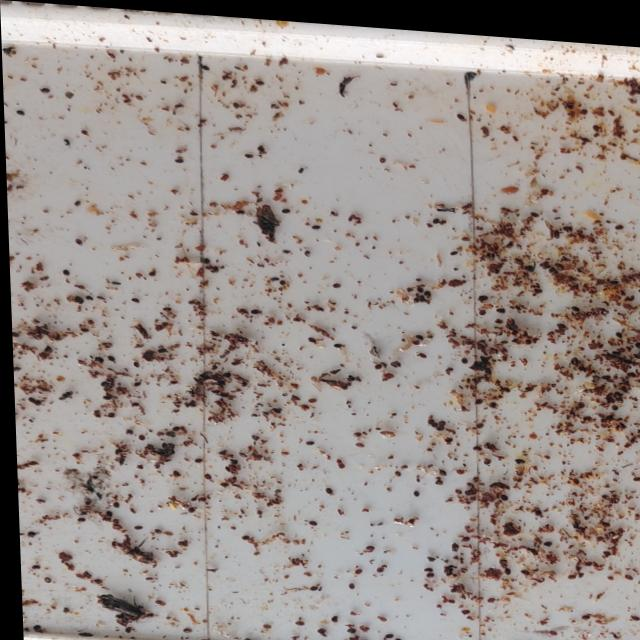varroa: (539, 532, 553, 542), (413, 346, 428, 354), (148, 597, 163, 605), (25, 565, 40, 573), (168, 467, 181, 476), (23, 531, 36, 540), (457, 529, 470, 538), (234, 448, 248, 456), (423, 566, 437, 574), (619, 565, 633, 573), (309, 219, 321, 228), (350, 562, 362, 571), (300, 436, 315, 443), (361, 540, 376, 547), (248, 431, 261, 439), (39, 577, 52, 585), (71, 515, 84, 523), (481, 450, 491, 460), (500, 561, 510, 571), (71, 200, 82, 209), (411, 329, 422, 338), (574, 392, 585, 401), (15, 110, 27, 118), (97, 380, 109, 388), (568, 297, 580, 305), (491, 310, 503, 318), (389, 355, 401, 363), (215, 478, 227, 486), (469, 438, 481, 446), (598, 542, 610, 550), (373, 562, 385, 570), (57, 607, 69, 615), (563, 566, 575, 574), (162, 430, 175, 437), (516, 561, 529, 568), (418, 562, 431, 569), (130, 523, 143, 530), (454, 602, 467, 609), (457, 108, 467, 117), (568, 350, 578, 359), (497, 486, 507, 495), (344, 578, 354, 587), (91, 356, 102, 364), (613, 323, 624, 331), (200, 471, 211, 479), (349, 427, 360, 435), (146, 269, 157, 277), (199, 62, 211, 69), (279, 206, 291, 213), (236, 207, 248, 214), (128, 296, 140, 303), (155, 346, 167, 353), (182, 505, 194, 512), (291, 616, 303, 623), (579, 100, 589, 108), (431, 472, 441, 480), (330, 339, 343, 345), (187, 208, 198, 215), (330, 278, 341, 285), (494, 301, 505, 308), (624, 364, 635, 371), (449, 243, 460, 250), (190, 455, 201, 462), (389, 633, 400, 640), (29, 626, 40, 633), (258, 620, 269, 627), (578, 606, 589, 613), (627, 605, 638, 612), (39, 89, 51, 95), (174, 157, 186, 163), (179, 56, 191, 62), (613, 215, 625, 221), (73, 238, 82, 246), (201, 255, 210, 263), (99, 394, 111, 400), (30, 401, 42, 407), (477, 303, 486, 311), (476, 289, 488, 295), (423, 284, 431, 293), (473, 392, 482, 400), (609, 396, 618, 404), (556, 315, 568, 321), (307, 393, 319, 399), (353, 438, 365, 444), (167, 424, 179, 430), (322, 483, 331, 491), (482, 591, 494, 597), (84, 294, 94, 301), (128, 400, 138, 407), (24, 398, 34, 405), (486, 395, 496, 402), (473, 416, 483, 423), (612, 342, 622, 349), (305, 516, 315, 523), (436, 463, 446, 470), (306, 582, 316, 589), (328, 613, 338, 620), (151, 527, 161, 534), (237, 532, 247, 539), (244, 151, 255, 157), (581, 129, 592, 135), (159, 304, 170, 310), (77, 327, 88, 333), (103, 412, 114, 418), (380, 629, 391, 635), (352, 634, 365, 639), (61, 269, 69, 277), (556, 256, 564, 264), (459, 351, 467, 359), (110, 500, 118, 508), (410, 485, 418, 493), (211, 264, 220, 271), (122, 428, 131, 435), (372, 359, 381, 366), (434, 420, 443, 427), (611, 382, 620, 389), (631, 467, 640, 474), (344, 622, 353, 629), (257, 77, 267, 83), (59, 393, 69, 399), (62, 391, 74, 396), (249, 305, 259, 311), (306, 333, 316, 339), (600, 366, 610, 372), (178, 626, 190, 631), (277, 276, 285, 283), (582, 407, 589, 415), (605, 388, 613, 395), (24, 331, 35, 336), (234, 99, 243, 105), (530, 205, 539, 211), (592, 117, 601, 123), (55, 396, 64, 402), (435, 415, 444, 421), (623, 351, 632, 357), (523, 331, 532, 337), (131, 360, 138, 367), (453, 482, 460, 489), (432, 212, 440, 218), (106, 355, 114, 361), (132, 380, 140, 386), (412, 292, 418, 300), (576, 358, 584, 364), (634, 333, 640, 341), (379, 152, 386, 158), (11, 332, 18, 338), (534, 281, 541, 287), (416, 281, 422, 288), (425, 412, 432, 418), (616, 389, 623, 395), (392, 465, 399, 471), (194, 637, 208, 640), (429, 417, 435, 423), (136, 434, 142, 439), (637, 405, 640, 412)
